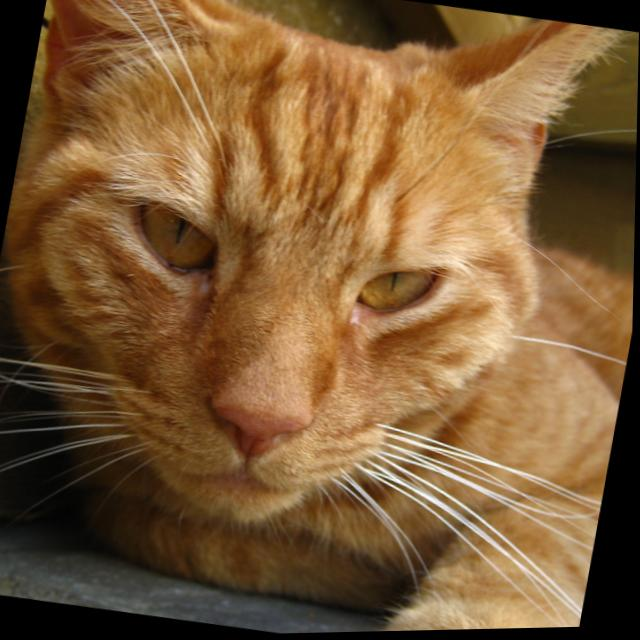animals: (0, 0, 623, 507)
